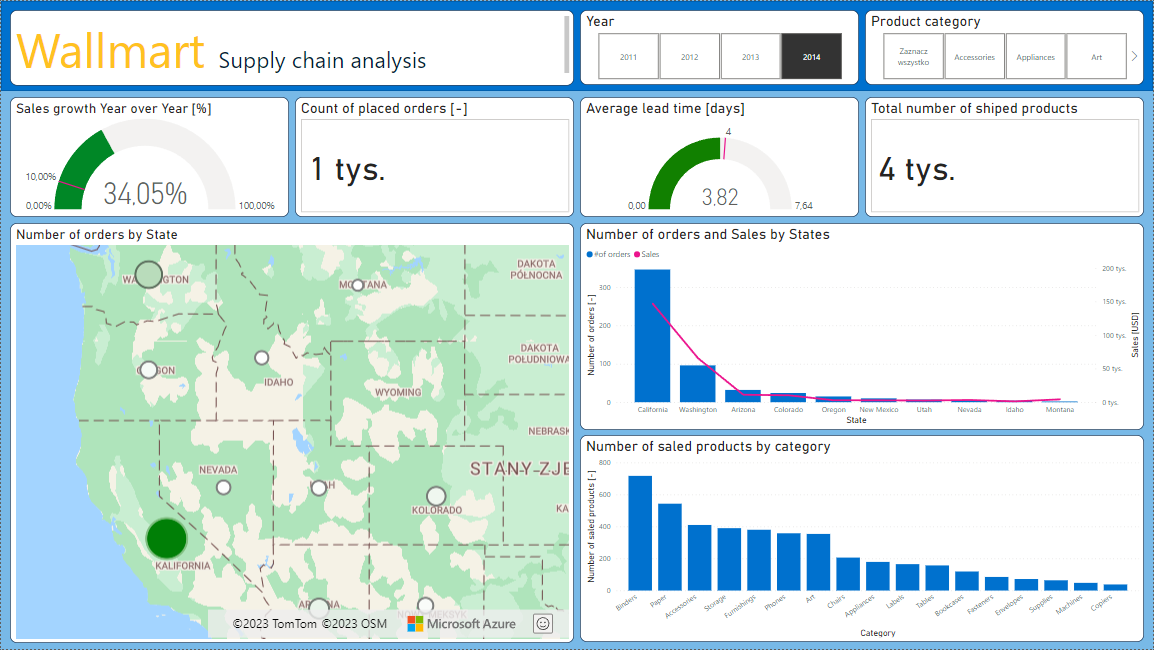

What the dashboard file says about the page in this screenshot:
{"tool":"powerbi","page":{"name":"Supply chain overview","canvas":[1920,1080],"ordinal":0},"visuals":[{"type":"shape","box":[0,0,1920,150],"z":0},{"type":"textbox","box":[15,15,939.8,125.7],"z":1000},{"type":"slicer","title":"Year","fields":{"Values":["CalendarTable.Year"]},"box":[965,15,465,125],"z":2000},{"type":"slicer","title":"Product category","fields":{"Values":["Walmart.Category"]},"box":[1440,15,465,125],"z":3000},{"type":"gauge","title":"Average lead time [days]","fields":{"Y":["Metrics.Lead time"],"TargetValue":["Metrics.Expected lead time"]},"box":[965,160,465,200],"z":5000},{"type":"cardVisual","title":"Count of placed orders [-]","fields":{"Data":["Metrics.#of orders"]},"box":[490,160,465,200],"z":6000},{"type":"cardVisual","title":"Total number of shiped products","fields":{"Data":["Metrics.#of shipper products"]},"box":[1440,160,465,200],"z":7000},{"type":"lineClusteredColumnComboChart","title":"Number of orders and Sales by States","fields":{"Category":["Walmart.State"],"Y2":["Metrics.Sales"],"Y":["Metrics.#of orders"]},"box":[965,370,940.3,345],"z":8000},{"type":"lineClusteredColumnComboChart","title":"Number of saled products by category","fields":{"Y":["Sum(Walmart.Quantity)"],"Category":["Walmart.Category"]},"box":[964.5,724,940.3,345.2],"z":9000},{"type":"gauge","title":"Sales growth Year over Year [%]","fields":{"Y":["Metrics.YoY Sales growth"],"TargetValue":["Metrics.Expected sales growth"]},"box":[15,160,465,200],"z":10000},{"type":"azureMap","title":"Number of orders by State","fields":{"Category":["Walmart.State"],"Size":["Metrics.#of orders"]},"box":[15,370,940,700],"z":11000}]}

Visuals, with their boxes in screenshot pixels (x1, y1, x2, y2), scaled from the page's 1920x1080 canvas onto the 1154x650 screenshot:
shape: 0:0:1153:90
textbox: 9:9:574:85
"Year" slicer: 580:9:859:84
"Product category" slicer: 866:9:1145:84
"Average lead time [days]" gauge: 580:96:859:217
"Count of placed orders [-]" cardVisual: 295:96:574:217
"Total number of shiped products" cardVisual: 866:96:1145:217
"Number of orders and Sales by States" lineClusteredColumnComboChart: 580:223:1145:430
"Number of saled products by category" lineClusteredColumnComboChart: 580:436:1145:644
"Sales growth Year over Year [%]" gauge: 9:96:288:217
"Number of orders by State" azureMap: 9:223:574:644
